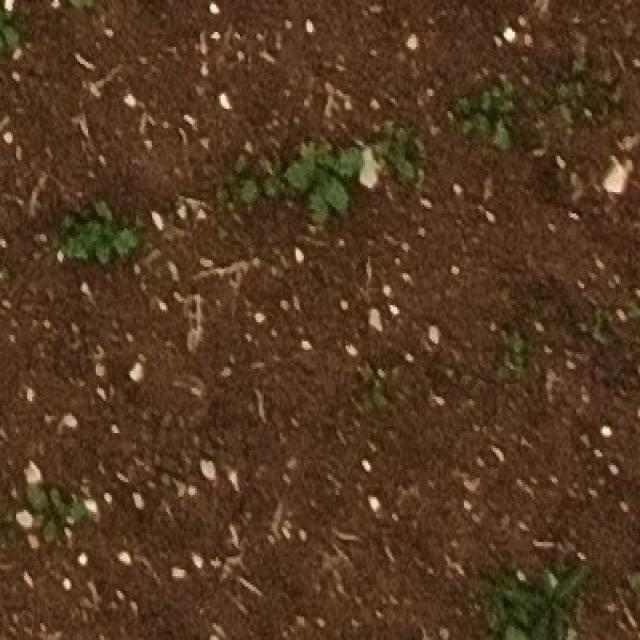cirse: (491, 545, 598, 616), (507, 541, 610, 612), (466, 565, 571, 632)
